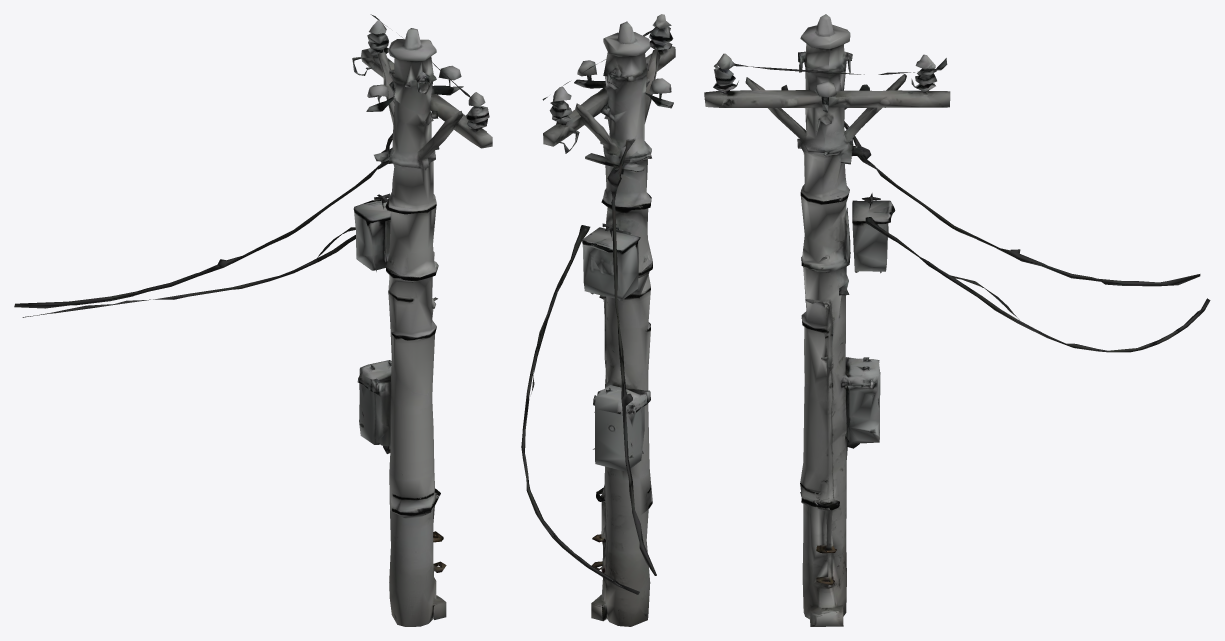
Rendered from utility-pole.glb.
3 renders of one model, left to right at view 1: azimuth 30°, elevation 25°; view 2: azimuth 150°, elevation 25°; view 3: azimuth 270°, elevation 25°, orthographic.
Parts seen in each view (by area): view 1: tripo_node_bc2bc0ef-046f-47a6-8d4b-cb18fe7bdce1; view 2: tripo_node_bc2bc0ef-046f-47a6-8d4b-cb18fe7bdce1; view 3: tripo_node_bc2bc0ef-046f-47a6-8d4b-cb18fe7bdce1.
Part boxes in pixels (x1,y1,x2,y2): tripo_node_bc2bc0ef-046f-47a6-8d4b-cb18fe7bdce1: [14, 14, 492, 626]; tripo_node_bc2bc0ef-046f-47a6-8d4b-cb18fe7bdce1: [521, 14, 675, 626]; tripo_node_bc2bc0ef-046f-47a6-8d4b-cb18fe7bdce1: [704, 14, 1210, 626].
Size of the model in its own units: 0.4706 by 0.9994 by 0.7658.
Materials: 1 (1 with a texture image).
